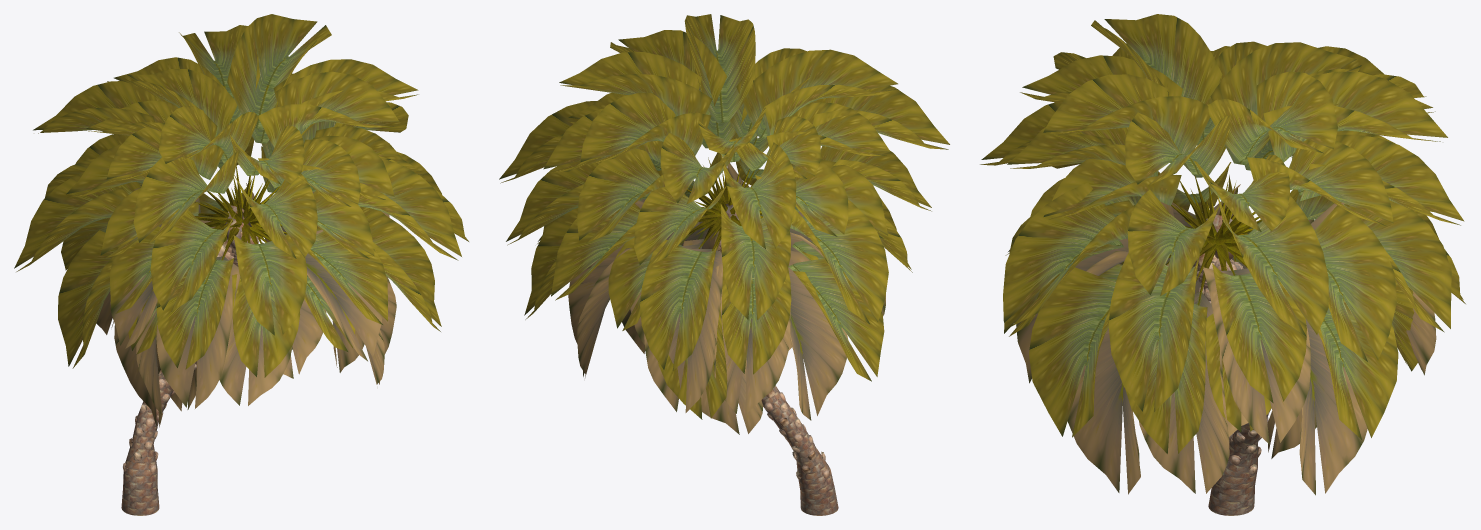
File: palme5_tree.fbx
3 views of the same model, side by side, from view 1: azimuth 30°, elevation 25°; view 2: azimuth 150°, elevation 25°; view 3: azimuth 270°, elevation 25° (orthographic). The views are drawn at different scales.
Visible parts, largest first — view 1: date palm leaf1_3, date palm leaf2_4, palm06_0, frond stem_1, palm bark_2; view 2: date palm leaf1_3, date palm leaf2_4, palm06_0, frond stem_1, palm bark_2; view 3: date palm leaf1_3, date palm leaf2_4, palm06_0, frond stem_1, palm bark_2.
Boxes of the visible parts, box(x1,y1,x2,y2) form: date palm leaf1_3: box(14, 14, 468, 377); date palm leaf2_4: box(96, 183, 396, 427); palm06_0: box(121, 205, 254, 515); frond stem_1: box(195, 165, 287, 260); palm bark_2: box(123, 236, 258, 473); date palm leaf1_3: box(499, 14, 949, 419); date palm leaf2_4: box(568, 163, 885, 434); palm06_0: box(720, 203, 838, 515); frond stem_1: box(686, 157, 762, 251); palm bark_2: box(718, 239, 829, 480); date palm leaf1_3: box(980, 14, 1465, 453); date palm leaf2_4: box(1016, 184, 1436, 495); palm06_0: box(1193, 215, 1269, 515); frond stem_1: box(1166, 175, 1261, 305); palm bark_2: box(1192, 253, 1270, 474).
Size of the model in its own units: 485 by 510 by 437.
5 materials, 5 textured.
